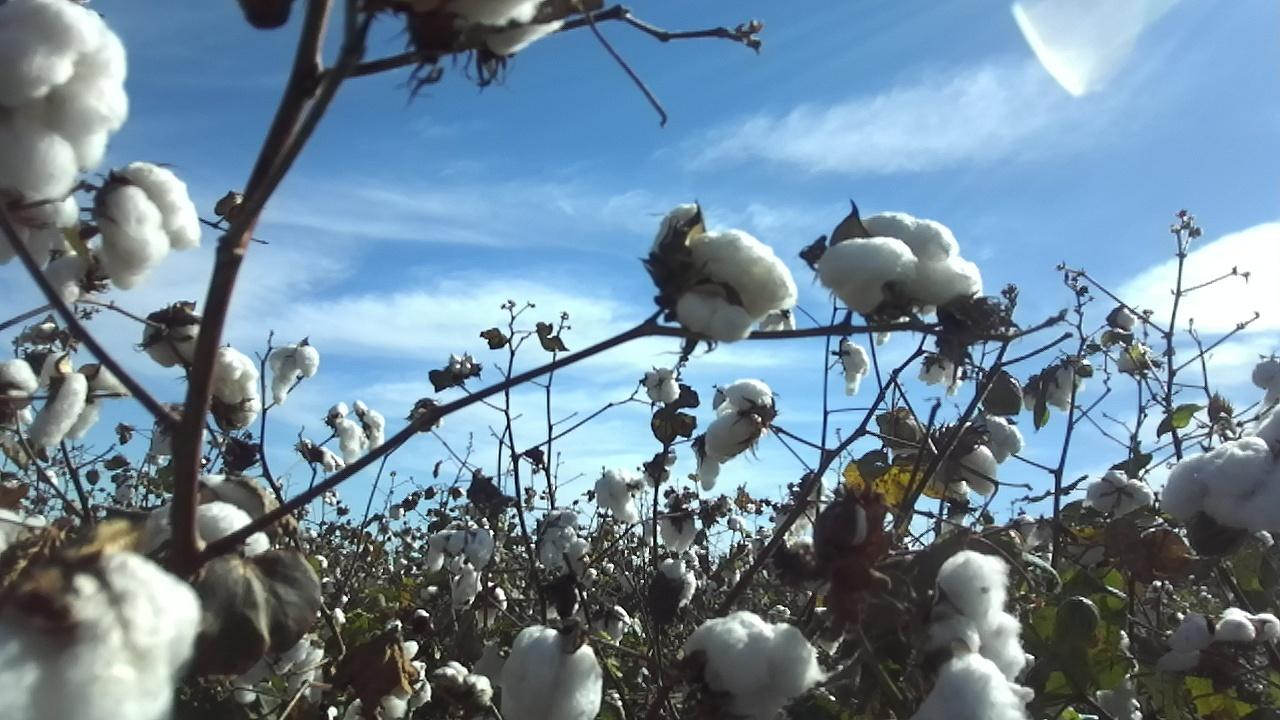cotton_ready: (0, 549, 207, 720), (0, 0, 132, 209), (817, 210, 986, 315), (680, 607, 826, 720), (672, 227, 796, 341), (925, 542, 1025, 683), (104, 162, 205, 293), (136, 475, 275, 557), (1162, 439, 1280, 534), (497, 624, 604, 720), (424, 0, 565, 65), (1157, 607, 1280, 676), (907, 655, 1033, 720), (32, 364, 124, 447), (0, 191, 81, 273), (939, 417, 1022, 495), (708, 380, 779, 469), (653, 201, 706, 289), (209, 344, 263, 429), (140, 304, 203, 370), (267, 345, 320, 406), (1087, 472, 1157, 511), (0, 355, 39, 405), (842, 339, 868, 397)
